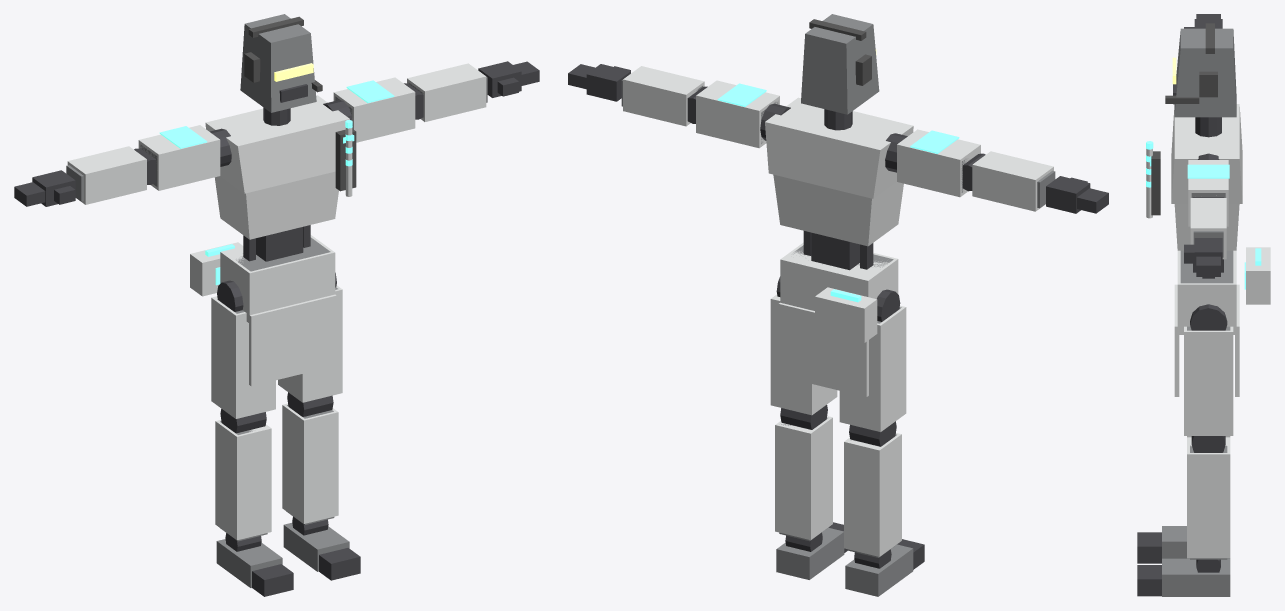
Rendered from char_F1_medical_officer.glb.
3 renders of one model, left to right at view 1: azimuth 30°, elevation 25°; view 2: azimuth 150°, elevation 25°; view 3: azimuth 270°, elevation 25°, orthographic. The views are drawn at different scales.
Visible parts, largest first — view 1: Hips_mesh, UpperChest_mesh, LeftLowerLeg_mesh, RightLowerLeg_mesh, Head_mesh, Chest_mesh, RightUpperLeg_mesh, RightUpperArm_mesh, RightLowerArm_mesh, LeftUpperArm_mesh, LeftLowerArm_mesh, LeftUpperLeg_mesh (+8 smaller); view 2: Hips_mesh, UpperChest_mesh, LeftLowerLeg_mesh, RightLowerLeg_mesh, Head_mesh, Chest_mesh, RightUpperLeg_mesh, RightUpperArm_mesh, RightLowerArm_mesh, LeftUpperArm_mesh, LeftLowerArm_mesh, Slot_ReviveKitSlot (+6 smaller); view 3: LeftUpperLeg_mesh, Head_mesh, LeftLowerLeg_mesh, UpperChest_mesh, Hips_mesh, LeftFoot_mesh, LeftUpperArm_mesh, LeftLowerArm_mesh, Slot_ReviveKitSlot, LeftHand_mesh, Chest_mesh, RightFoot_mesh (+5 smaller).
Boxes of the visible parts, x1,y1,x2,y2 form: Hips_mesh: [220, 235, 336, 386]; UpperChest_mesh: [205, 95, 356, 193]; LeftLowerLeg_mesh: [282, 392, 338, 524]; RightLowerLeg_mesh: [215, 409, 271, 541]; Head_mesh: [240, 14, 322, 112]; Chest_mesh: [214, 171, 338, 239]; RightUpperLeg_mesh: [211, 280, 275, 418]; RightUpperArm_mesh: [138, 125, 220, 190]; RightLowerArm_mesh: [66, 146, 156, 204]; LeftUpperArm_mesh: [333, 77, 415, 142]; LeftLowerArm_mesh: [404, 63, 487, 121]; LeftUpperLeg_mesh: [278, 272, 342, 402]; Hips_mesh: [778, 242, 898, 397]; UpperChest_mesh: [765, 97, 913, 198]; LeftLowerLeg_mesh: [775, 405, 832, 541]; RightLowerLeg_mesh: [844, 421, 901, 557]; Head_mesh: [801, 14, 879, 114]; Chest_mesh: [773, 174, 903, 246]; RightUpperLeg_mesh: [839, 289, 906, 431]; RightUpperArm_mesh: [897, 129, 980, 197]; RightLowerArm_mesh: [962, 151, 1055, 211]; LeftUpperArm_mesh: [696, 80, 779, 148]; LeftLowerArm_mesh: [621, 66, 707, 126]; Slot_ReviveKitSlot: [815, 287, 877, 342]; LeftUpperLeg_mesh: [1184, 304, 1233, 435]; Head_mesh: [1165, 23, 1236, 117]; LeftLowerLeg_mesh: [1187, 436, 1230, 559]; UpperChest_mesh: [1150, 104, 1242, 215]; Hips_mesh: [1174, 250, 1239, 396]; LeftFoot_mesh: [1162, 558, 1230, 596]; LeftUpperArm_mesh: [1187, 160, 1229, 226]; LeftLowerArm_mesh: [1190, 197, 1226, 259]; Slot_ReviveKitSlot: [1244, 247, 1270, 304]; LeftHand_mesh: [1184, 238, 1222, 276]; Chest_mesh: [1174, 204, 1239, 250]; RightFoot_mesh: [1162, 526, 1229, 558].
Bounding box in the file's own units: 1.92 × 1.91 × 0.43.
